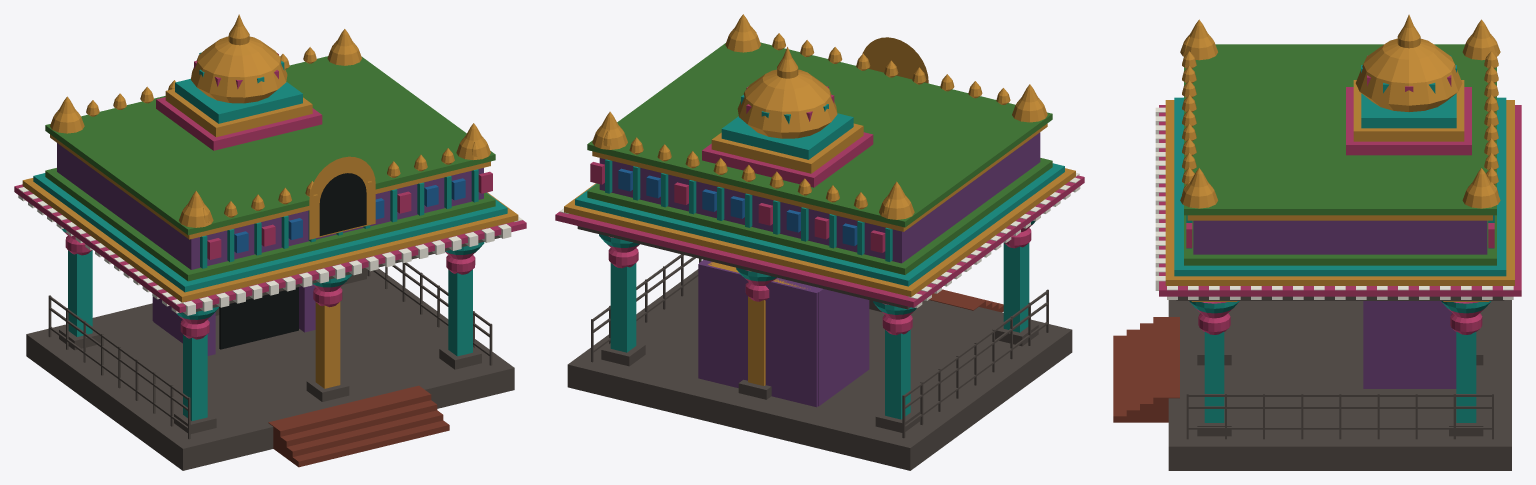
Rendered from Temple_Model.obj.
3 renders of one model, left to right at view 1: azimuth 30°, elevation 25°; view 2: azimuth 150°, elevation 25°; view 3: azimuth 270°, elevation 25°, orthographic. The views are drawn at different scales.
Parts seen in each view (by area): view 1: Stone, Green, Gold, Turquoise, Purple, Pink, Terracotta, Recess, White, Blue; view 2: Stone, Green, Gold, Purple, Turquoise, Pink, Blue, White, Terracotta; view 3: Stone, Green, Gold, Purple, Turquoise, Pink, Terracotta, White.
Part boxes in pixels (x1=…): Stone: x1=26, y1=235, x2=514, y2=470; Green: x1=45, y1=56, x2=495, y2=281; Gold: x1=22, y1=14, x2=518, y2=388; Turquoise: x1=33, y1=52, x2=507, y2=420; Purple: x1=57, y1=143, x2=483, y2=355; Pink: x1=14, y1=53, x2=526, y2=339; Terracotta: x1=268, y1=385, x2=449, y2=467; Recess: x1=219, y1=173, x2=366, y2=349; White: x1=18, y1=187, x2=522, y2=315; Blue: x1=234, y1=178, x2=465, y2=253; Stone: x1=567, y1=226, x2=1072, y2=470; Green: x1=587, y1=42, x2=1052, y2=274; Gold: x1=564, y1=14, x2=1075, y2=385; Purple: x1=599, y1=132, x2=1040, y2=407; Turquoise: x1=575, y1=94, x2=1064, y2=419; Pink: x1=555, y1=86, x2=1084, y2=335; Blue: x1=618, y1=168, x2=857, y2=246; White: x1=559, y1=172, x2=1080, y2=308; Terracotta: x1=929, y1=289, x2=1003, y2=312; Stone: x1=1168, y1=296, x2=1511, y2=470; Green: x1=1184, y1=44, x2=1496, y2=265; Gold: x1=1165, y1=14, x2=1514, y2=301; Purple: x1=1193, y1=220, x2=1487, y2=388; Turquoise: x1=1174, y1=55, x2=1506, y2=422; Pink: x1=1159, y1=55, x2=1521, y2=334; Terracotta: x1=1113, y1=317, x2=1179, y2=422; White: x1=1155, y1=107, x2=1513, y2=299.
Size of the model in its own units: 11.5 by 10.65 by 10.7.
